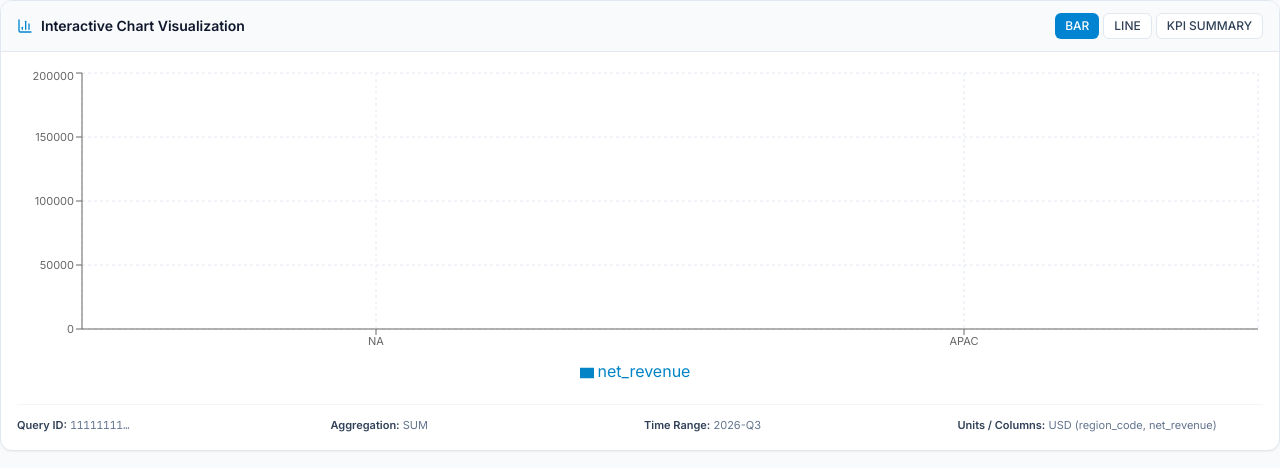
Scenario: ResultTable & ChartRenderer › renders KPI summary and chart provenance + chart switcher
The width and height of the screenshot is (1280, 468).
Expected: the text "11111111…" is shown, [70,418,130,432]
Expected: the text "Units / Columns: USD (region_code, net_revenue)" is shown, [958,418,1217,432]
Click the button "KPI SUMMARY".
click(1209, 26)  # box [1156,13,1263,39]
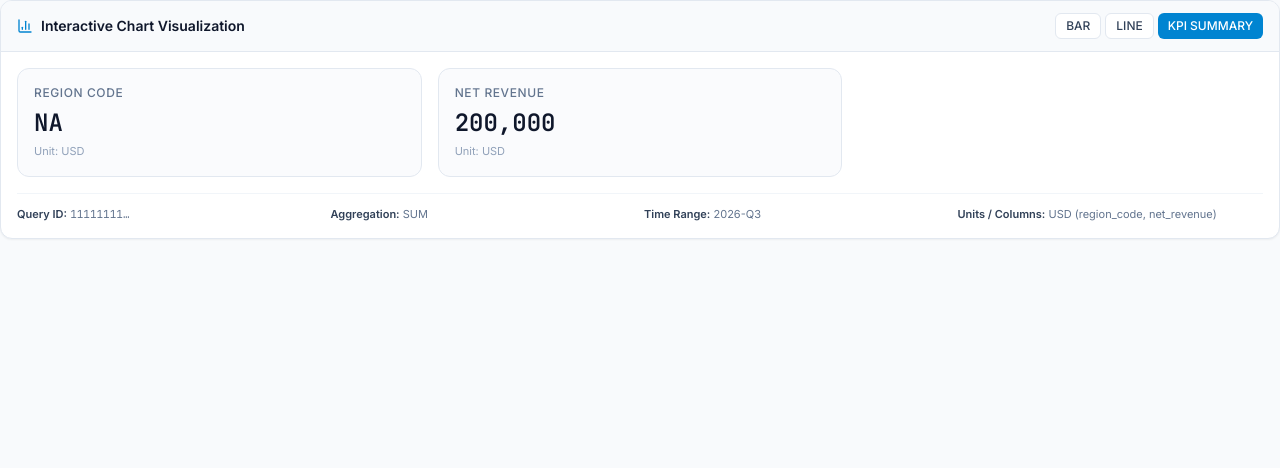
Result: the text "region code" is shown at [34,85,123,100]
